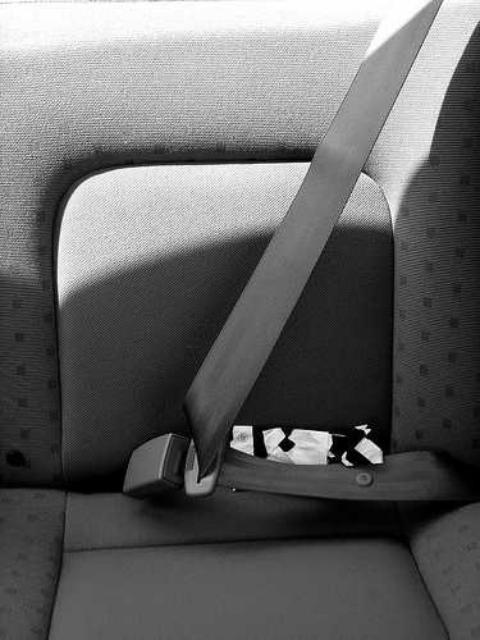Seatbelt: (113, 2, 480, 512)
